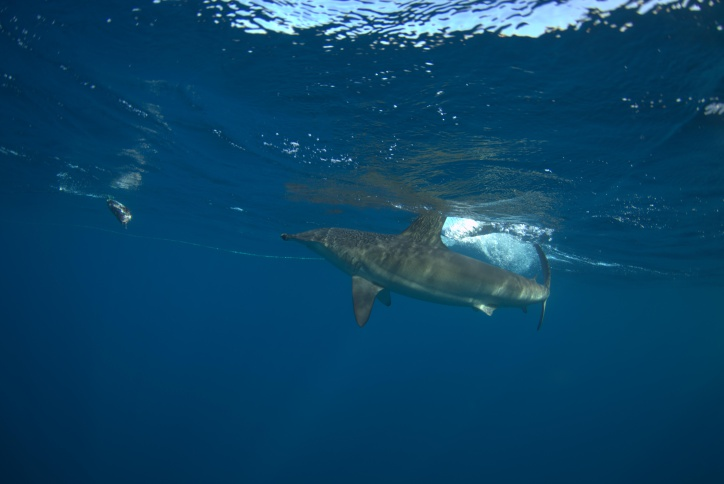Hammer: (280, 188, 576, 351)
